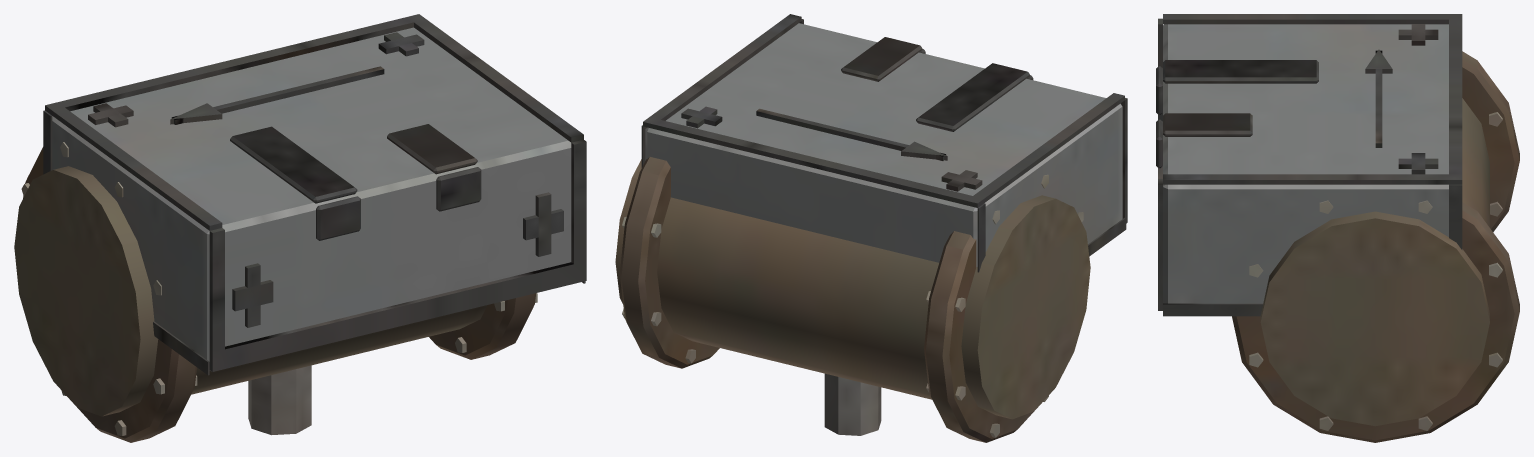
File: top-up-valve-west.glb
3 renders of one model, left to right at view 1: azimuth 30°, elevation 25°; view 2: azimuth 150°, elevation 25°; view 3: azimuth 270°, elevation 25°, orthographic. The views are drawn at different scales.
Parts seen in each view (by area): view 1: body; view 2: body; view 3: body.
Part boxes in pixels (x1,y1,x2,y2): body: [14, 14, 586, 442]; body: [615, 14, 1127, 442]; body: [1156, 14, 1519, 442].
Bounding box in the file's own units: 1 × 0.776 × 0.856.
Materials: 1 (1 with a texture image).
